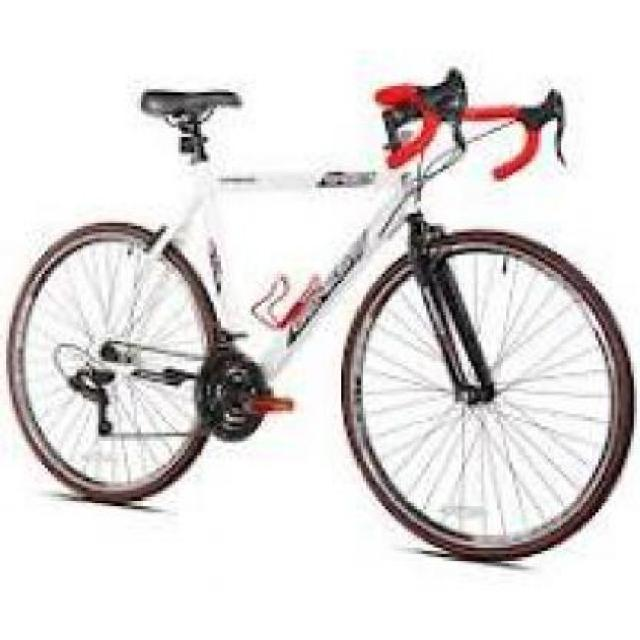bicycle: (2, 82, 640, 567)
